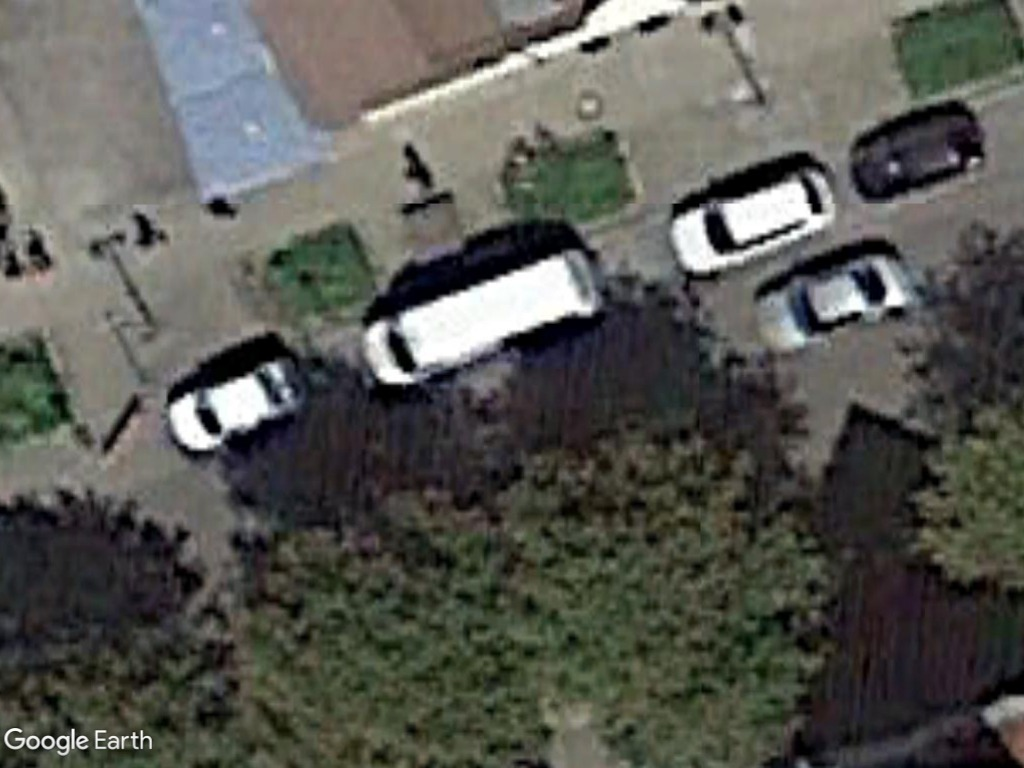car: (663, 166, 839, 279), (752, 248, 913, 356), (164, 348, 309, 457)
van: (360, 240, 600, 393)
